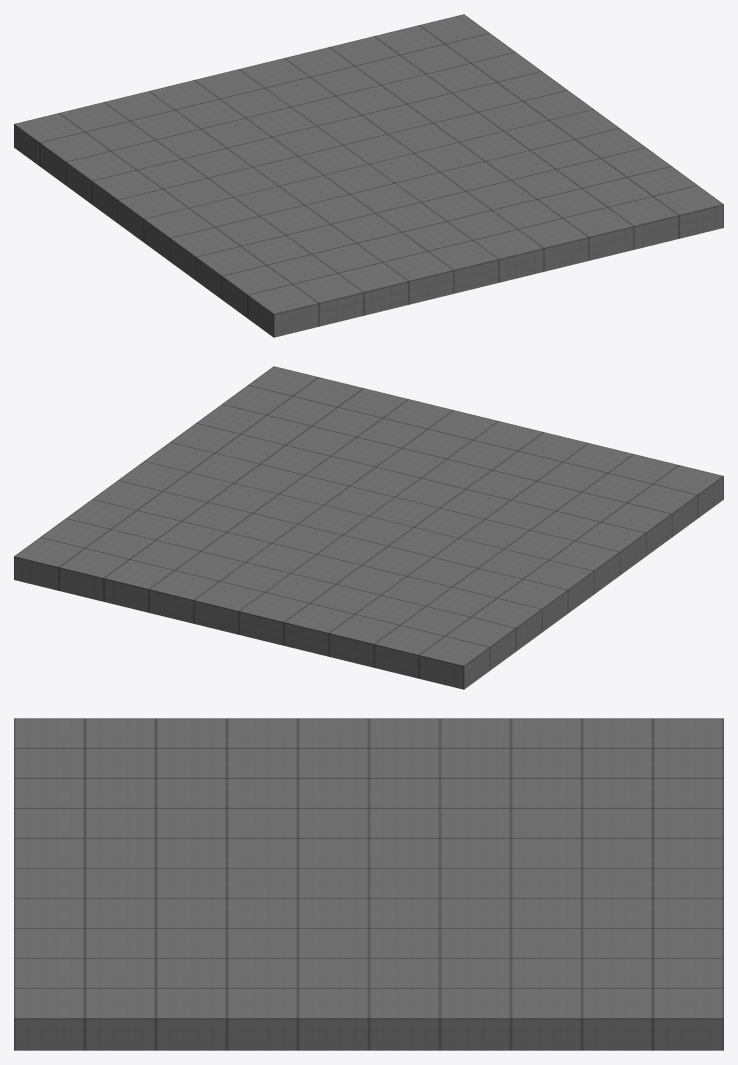
File: SM_Template_Map_Floor_78eccfff4a.glb
The picture shows the model from 3 angles, top to bottom: view 1: azimuth 30°, elevation 25°; view 2: azimuth 150°, elevation 25°; view 3: azimuth 270°, elevation 25°; orthographic projection. The views are drawn at different scales.
Visible parts, largest first — view 1: Floor; view 2: Floor; view 3: Floor.
Part boxes in pixels (x1,y1,x2,y2): Floor: [14, 14, 723, 337]; Floor: [14, 366, 723, 689]; Floor: [14, 718, 723, 1050].
Size of the model in its own units: 10 by 0.5 by 10.
1 material, 1 textured.
